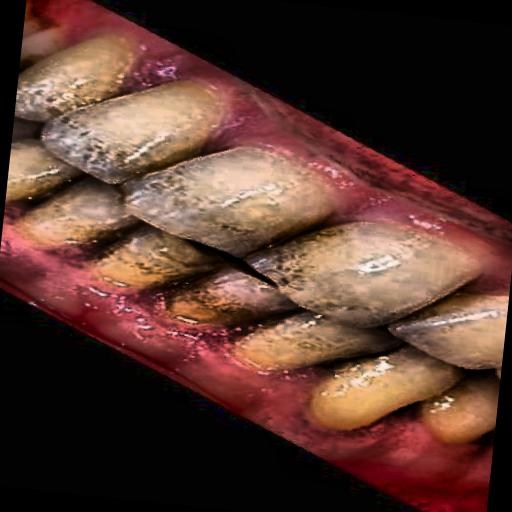Calculus: (123, 186, 512, 425), (31, 61, 249, 206)
